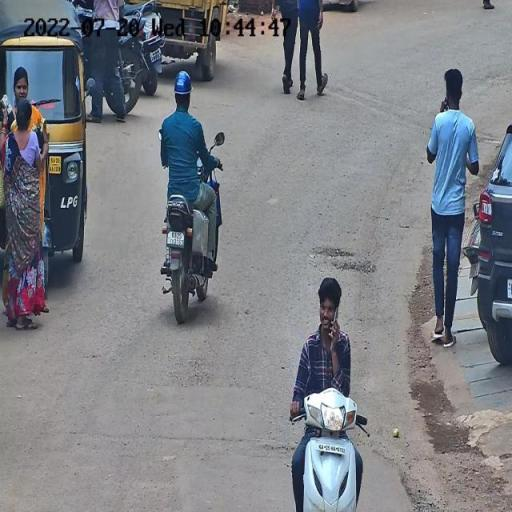using mobile: (328, 296, 342, 344)
